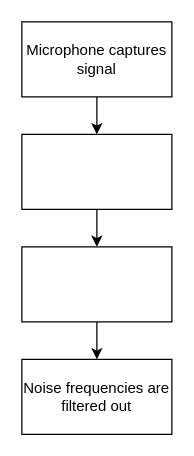
This 194x456 diagram has some shape labels left out. Each missing label, with the centre of its shape:
Microcontroller reads signnal: the point at 96,284
Signal is preamplified: the point at 96,171
